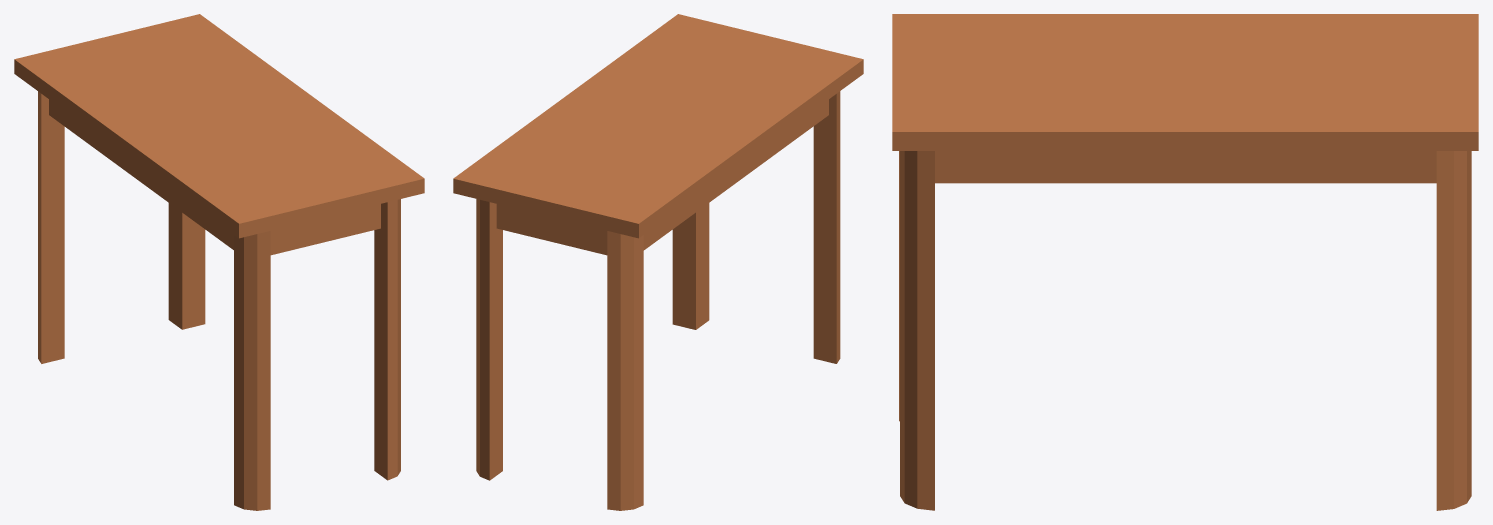
The model's file is 2021-08-05_Table.fbx.
The picture shows the model from 3 angles, left to right: view 1: azimuth 30°, elevation 25°; view 2: azimuth 150°, elevation 25°; view 3: azimuth 270°, elevation 25°; orthographic projection. The views are drawn at different scales.
Parts seen in each view (by area): view 1: Top, Leg 2, Leg 1, Leg 3, Leg 4; view 2: Top, Leg 3, Leg 4, Leg 2, Leg 1; view 3: Top, Leg 4, Leg 1.
Part boxes in pixels (<box>): Top: <box>14,14,424,255</box>; Leg 2: <box>234,231,270,510</box>; Leg 1: <box>374,199,400,480</box>; Leg 3: <box>38,91,64,363</box>; Leg 4: <box>168,203,205,329</box>; Top: <box>453,14,863,255</box>; Leg 3: <box>607,231,643,510</box>; Leg 4: <box>476,199,502,480</box>; Leg 2: <box>813,91,840,363</box>; Leg 1: <box>672,203,709,329</box>; Top: <box>892,14,1478,183</box>; Leg 4: <box>1436,151,1471,510</box>; Leg 1: <box>900,151,934,510</box>.
Size of the model in its own units: 50.8 by 77.39 by 107.
